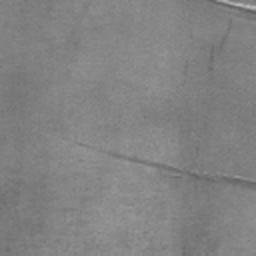Finishing roll printing: (77, 140, 256, 191), (212, 0, 256, 15)
